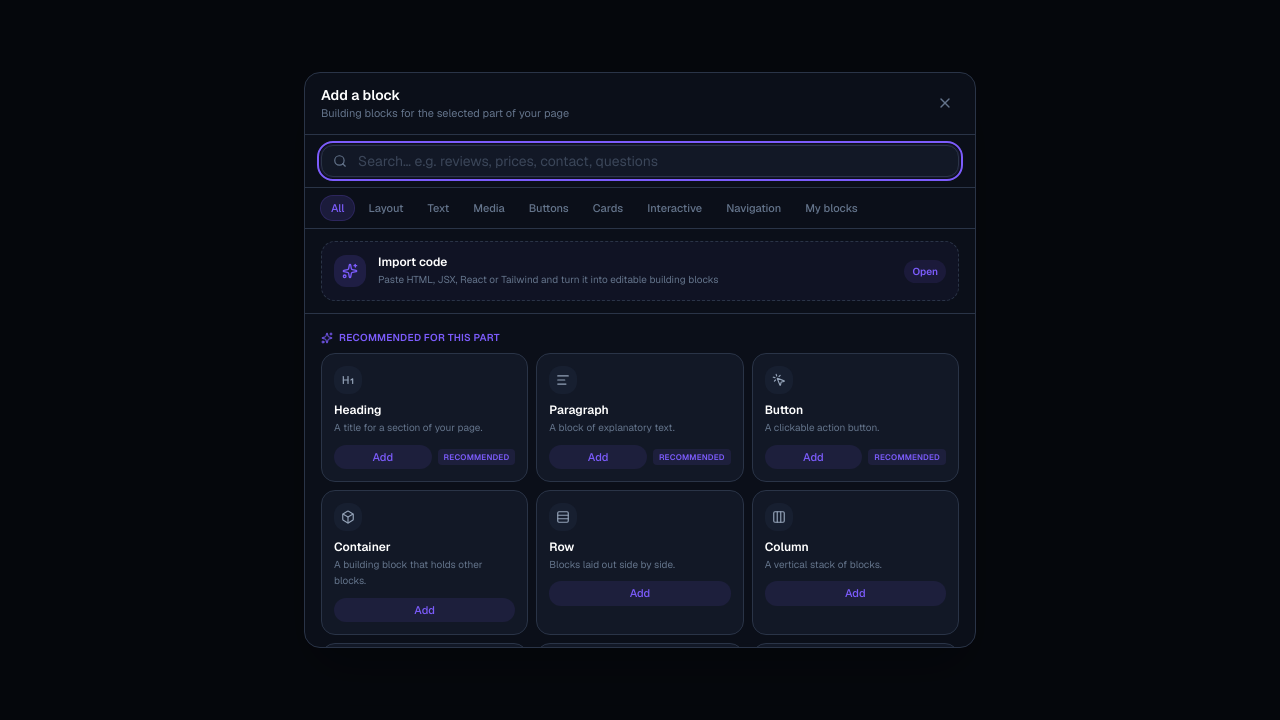
Scenario: BlockBrowserDialog › filters by search with synonyms
Type "reviews" into the search field with test id "block-browser-search" at coordinates (640, 160), box [321,144,959,176]
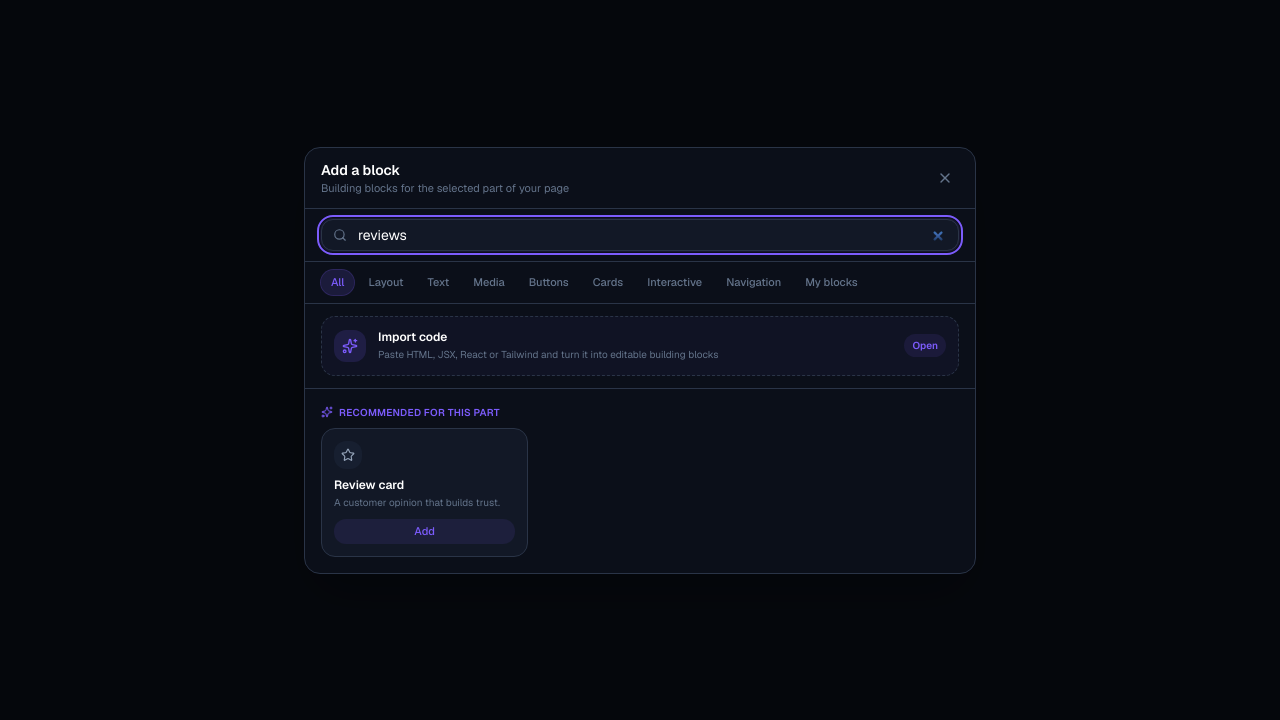
Check: the element with test id "block-card-review-card" is shown, box [321,428,528,557]
Check: the element with test id "block-card-heading" is gone
